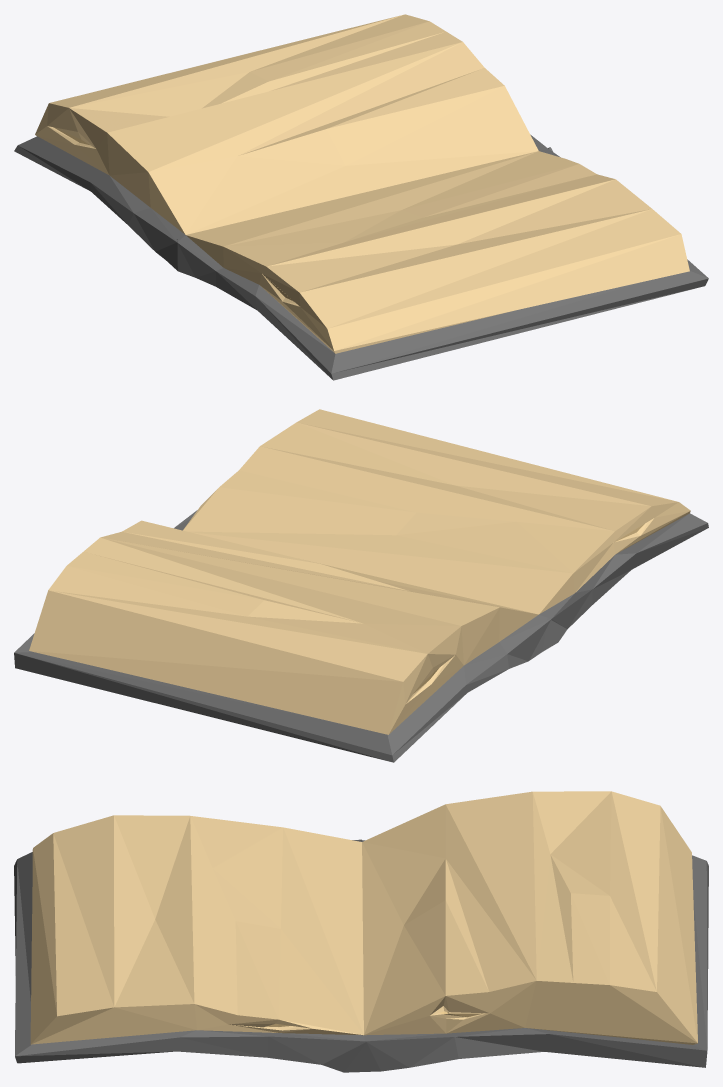
The model's file is AWS_Book_Opened_Gray.fbx.
The picture shows the model from 3 angles, top to bottom: view 1: azimuth 30°, elevation 25°; view 2: azimuth 150°, elevation 25°; view 3: azimuth 270°, elevation 25°; orthographic projection. The views are drawn at different scales.
Parts seen in each view (by area): view 1: AWS_Book_Opened_Gray; view 2: AWS_Book_Opened_Gray; view 3: AWS_Book_Opened_Gray.
Part boxes in pixels (x1,y1,x2,y2): AWS_Book_Opened_Gray: [14, 14, 708, 380]; AWS_Book_Opened_Gray: [14, 409, 708, 762]; AWS_Book_Opened_Gray: [14, 791, 708, 1072].
Bounding box in the file's own units: 23.19 × 4.62 × 33.28.
